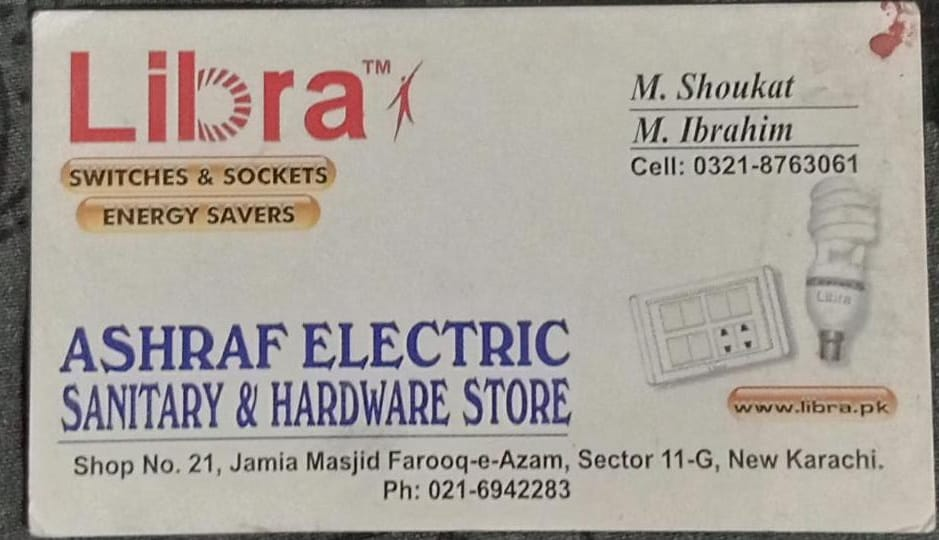alphabetical: (55, 316, 579, 433), (620, 60, 802, 102), (624, 113, 805, 145)
numerical: (692, 152, 869, 176), (427, 476, 577, 502)
